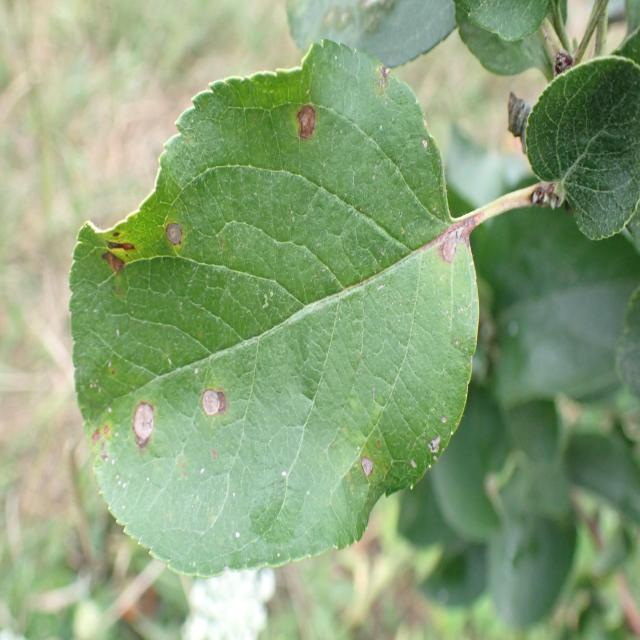frog-eye-leaf-spot: (67, 36, 480, 578)
